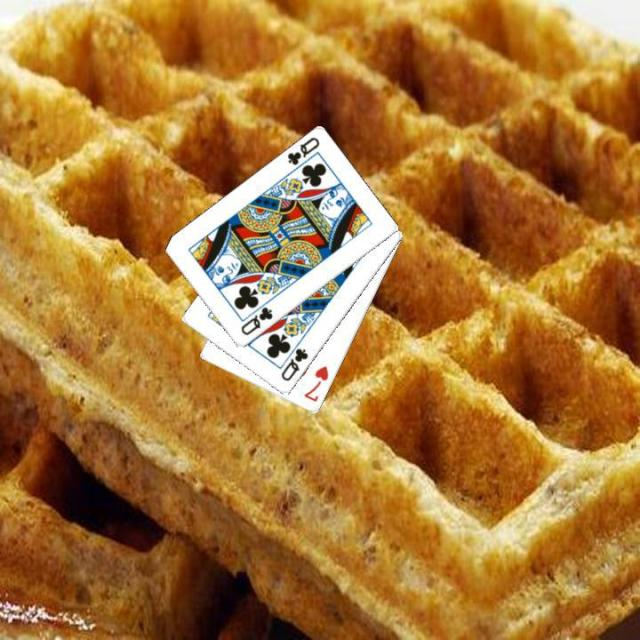7H: (300, 362, 330, 404)
QC: (283, 133, 321, 168), (276, 344, 310, 383), (237, 303, 274, 338)
